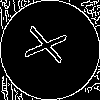X: (25, 25, 76, 67)
